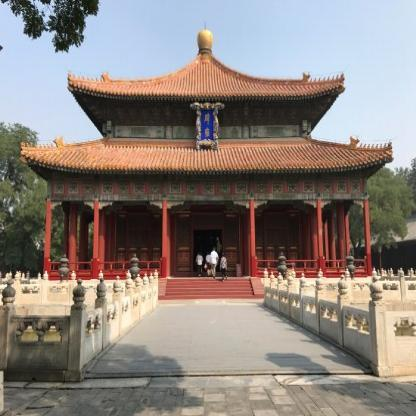Building Outline: (19, 29, 396, 300)
Deco: (189, 102, 225, 150)
Dont: (195, 247, 228, 282)
Door: (193, 229, 221, 277)
Facade: (49, 140, 368, 300)
Floor Slab: (42, 279, 373, 285), (103, 141, 310, 148)
Ground Floor: (103, 148, 310, 278)
Pillar: (43, 198, 51, 280), (160, 200, 167, 279), (365, 200, 372, 277), (250, 200, 257, 277), (92, 200, 98, 279), (318, 200, 324, 277)
Roof: (19, 134, 396, 174), (67, 53, 346, 101)
Top Floor: (103, 100, 310, 140)
